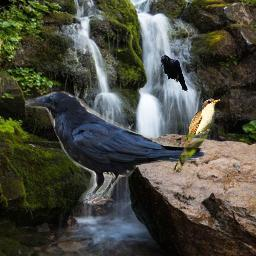Crow: (25, 91, 207, 206), (160, 55, 188, 92)
Cuckoo: (172, 97, 223, 174)
